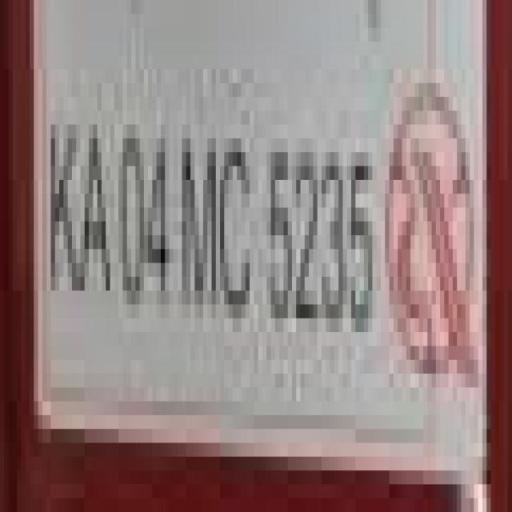number plate: (8, 41, 474, 429)
